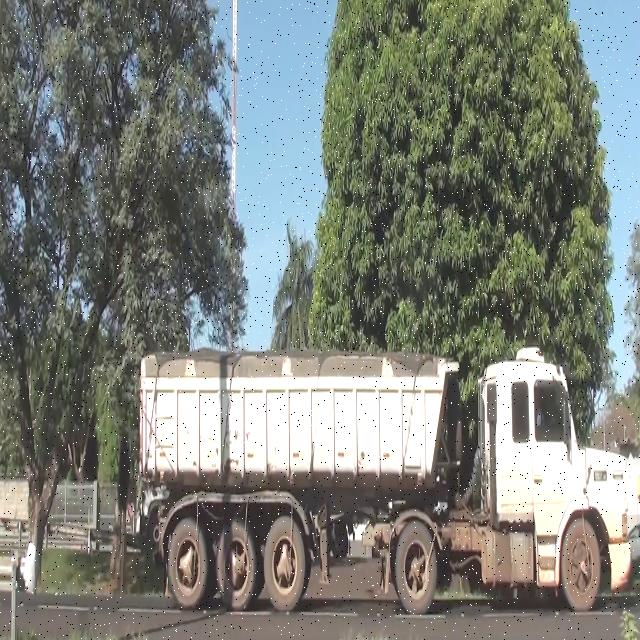-axle: (393, 518, 439, 614), (265, 516, 307, 614), (562, 521, 606, 609), (216, 520, 256, 612), (167, 519, 207, 605)
